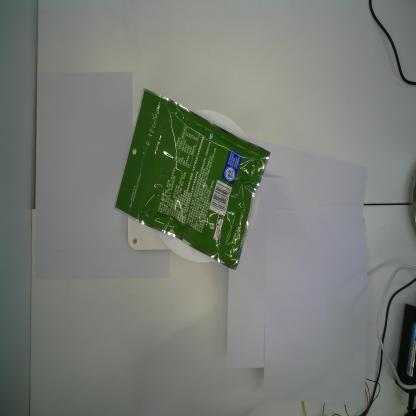Dried Fruit: (112, 87, 272, 273)
